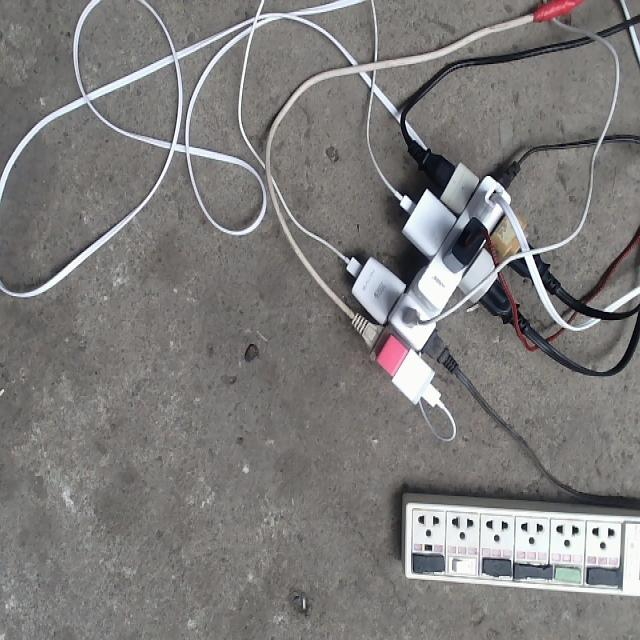-: (342, 135, 533, 413)
